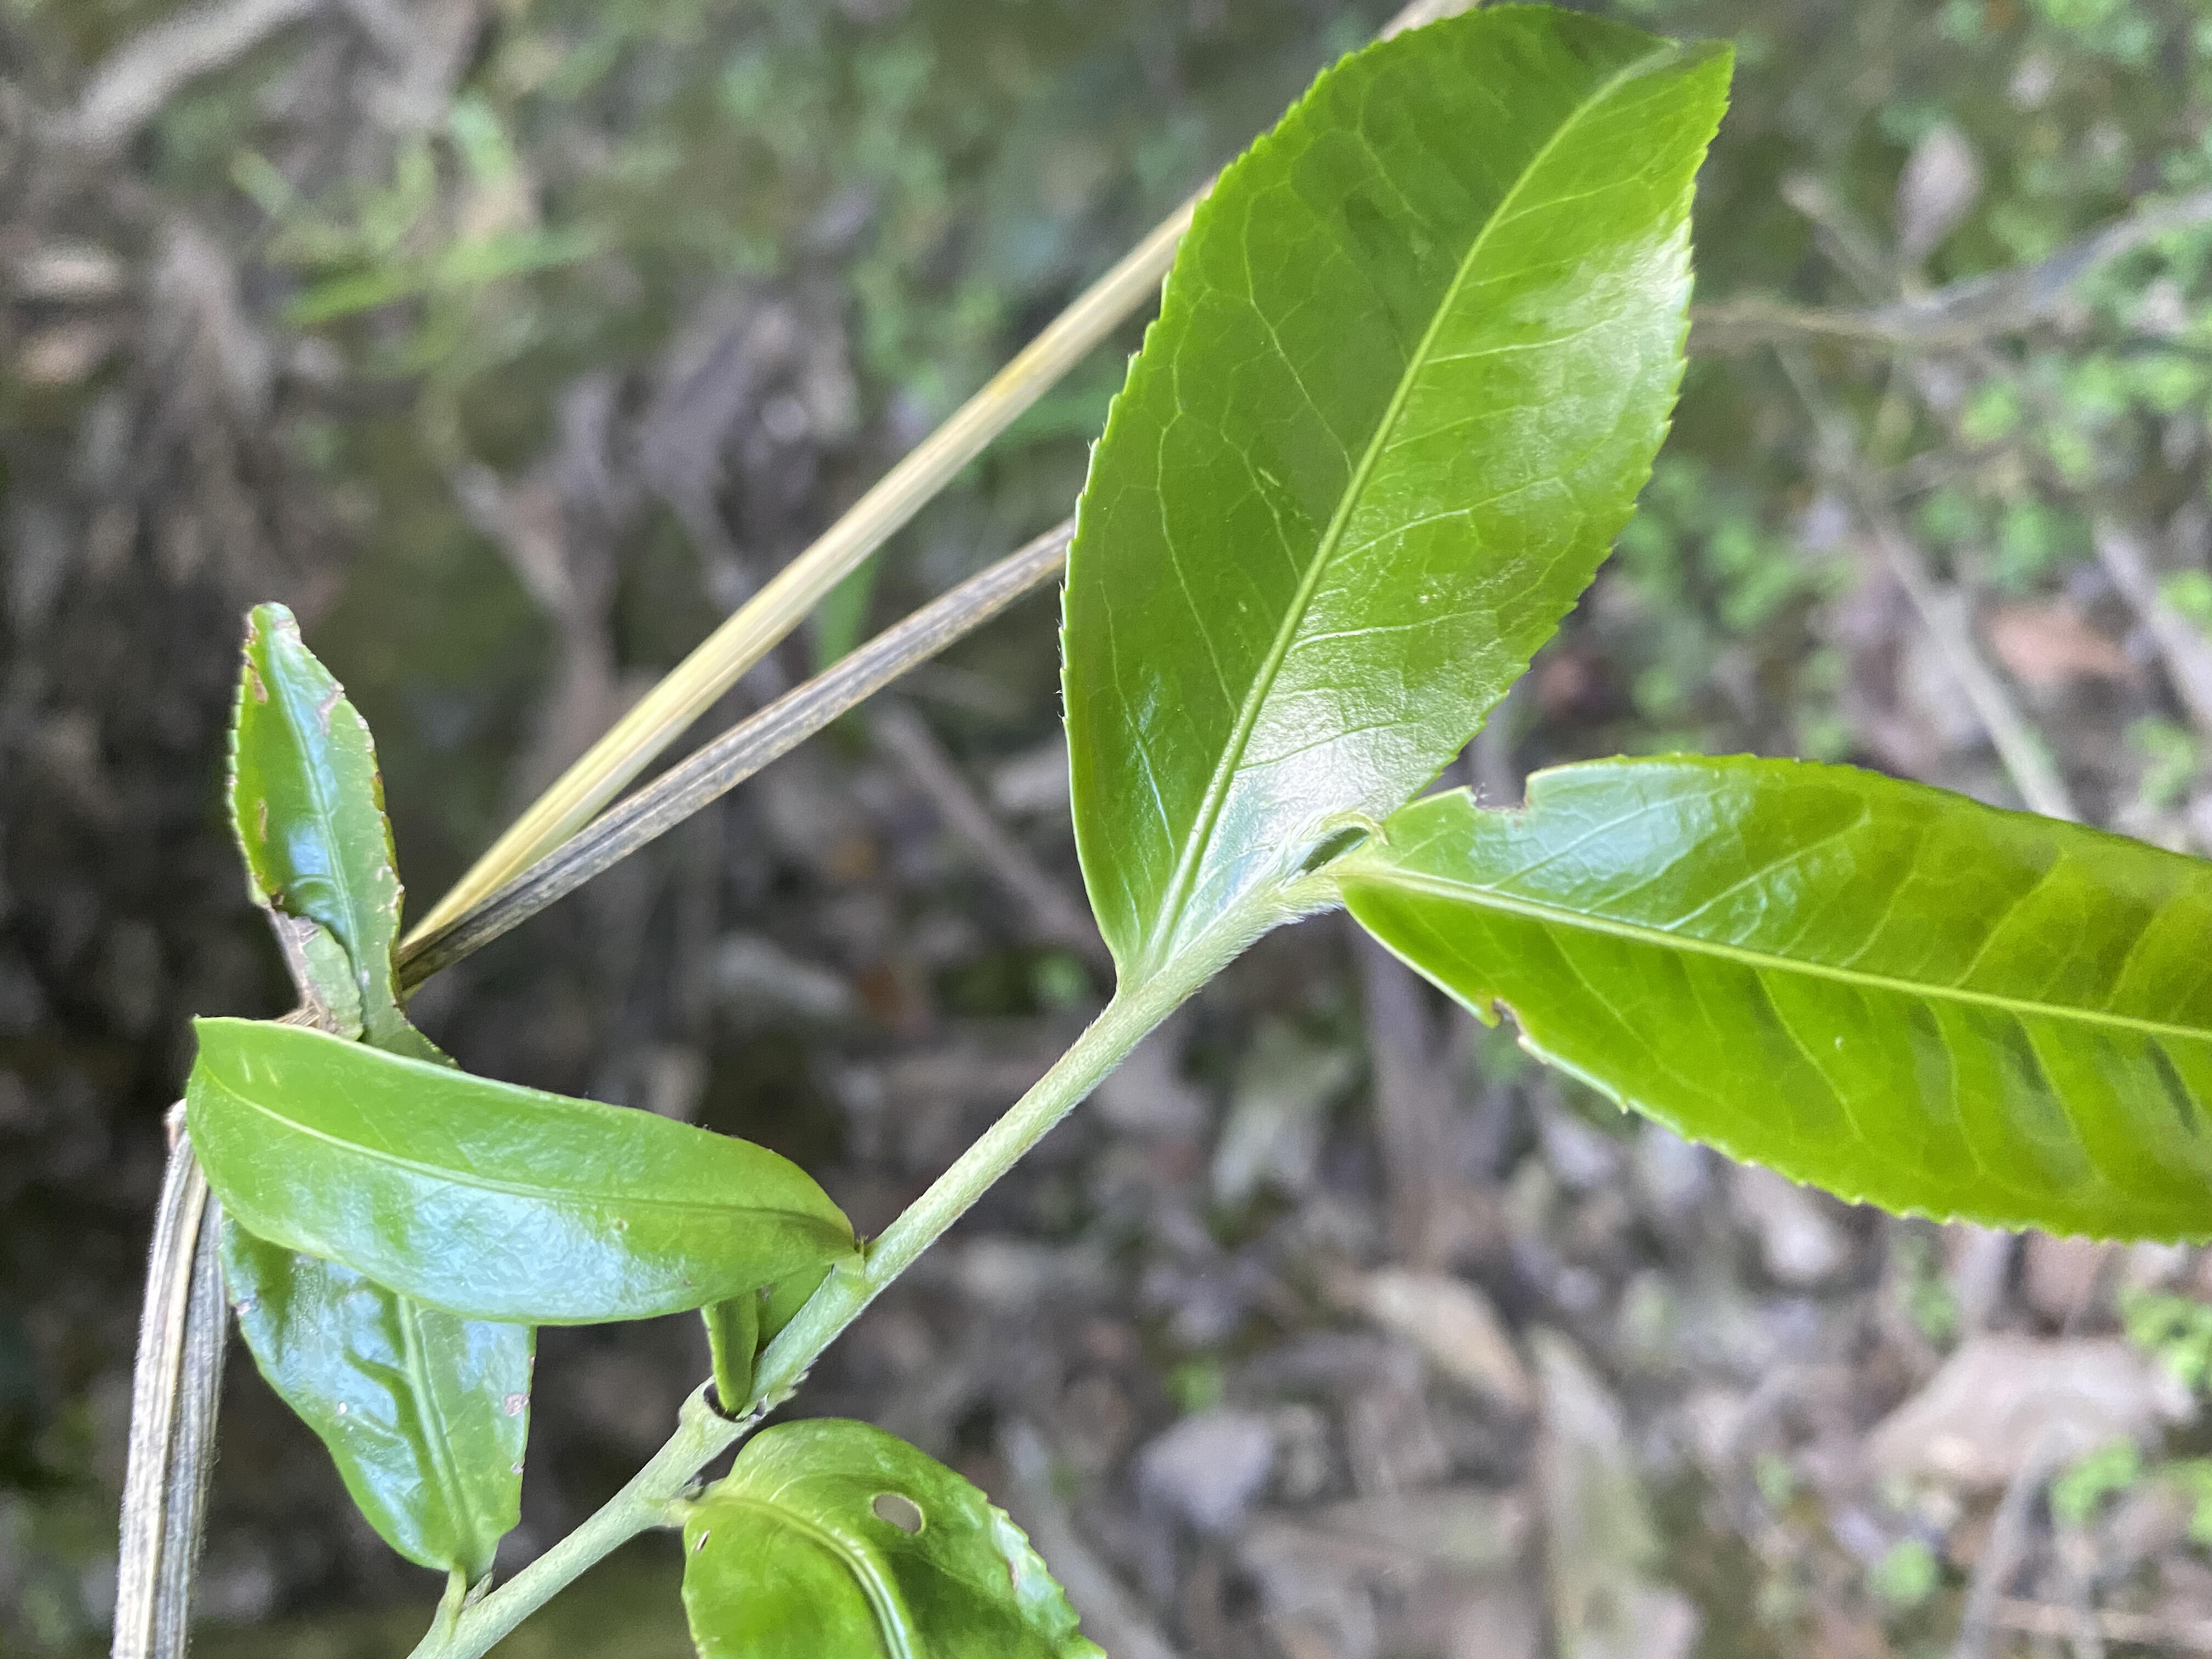chihuo_high: (1353, 749, 2210, 1251)
chihuo_low: (678, 1413, 1116, 1657)
healthy: (1052, 3, 1737, 985), (174, 1006, 853, 1330)
tanju_low: (204, 601, 543, 1575)
